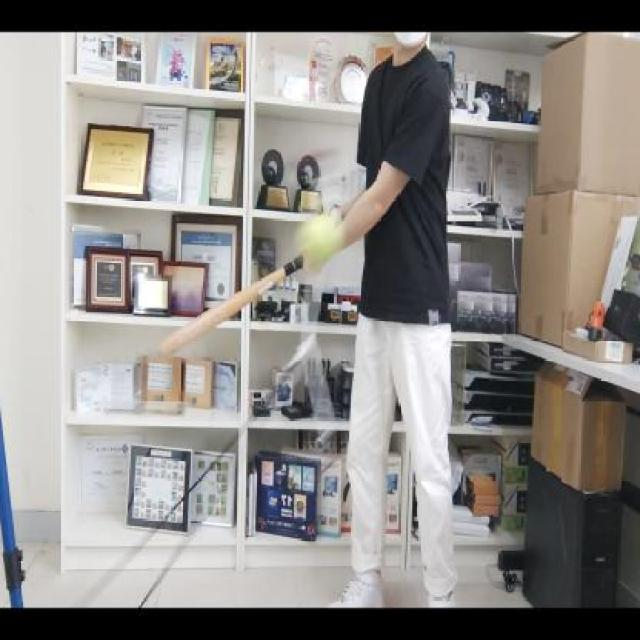baseball: (292, 208, 346, 278)
